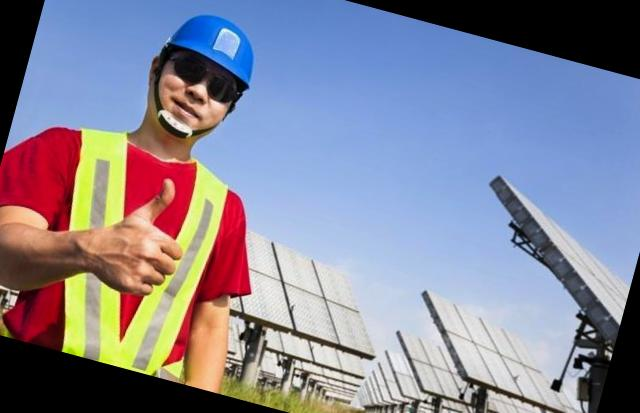person: (0, 0, 310, 392)
